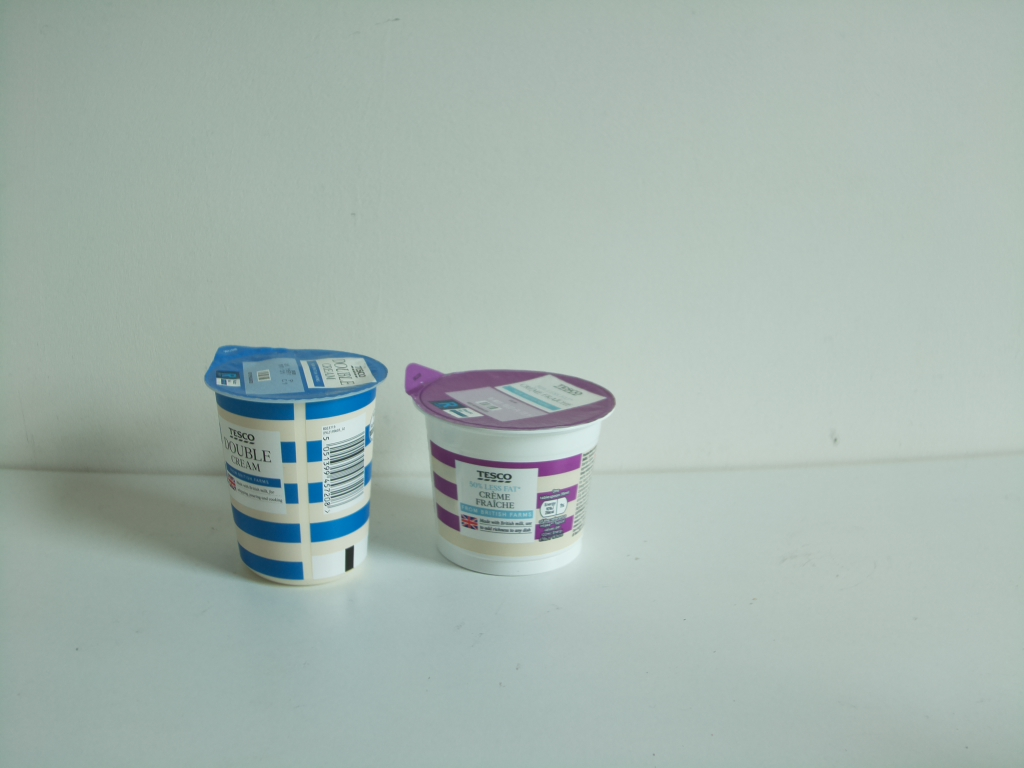cream: (203, 340, 389, 589), (403, 361, 617, 577)
